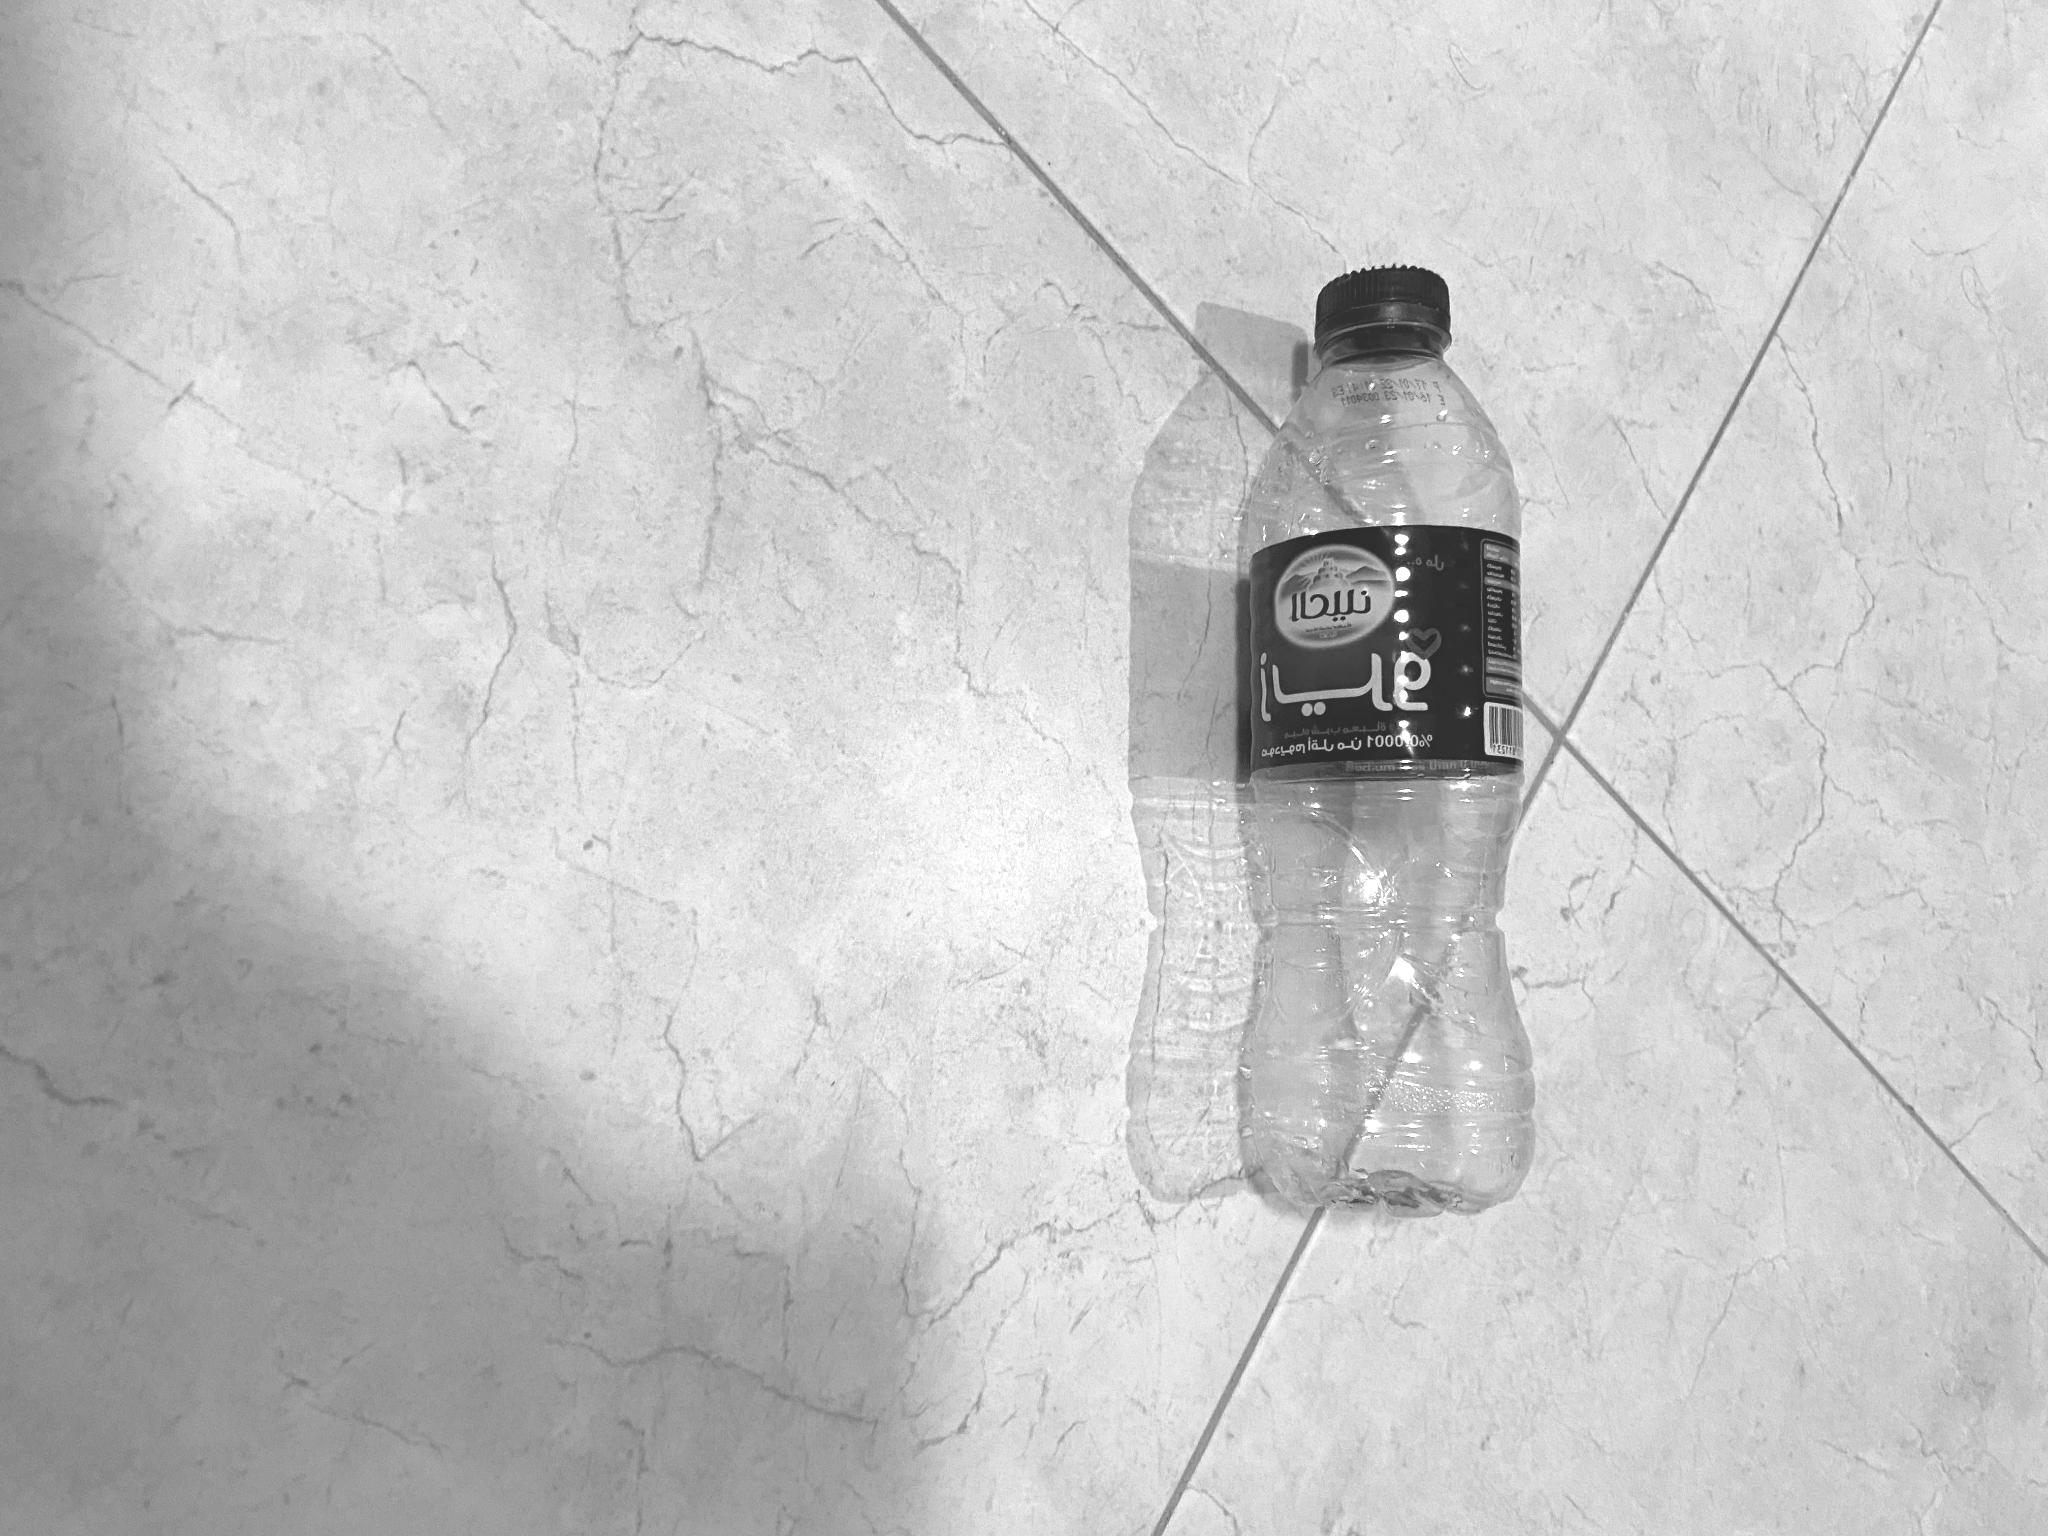bottle: (1203, 245, 1571, 1228)
